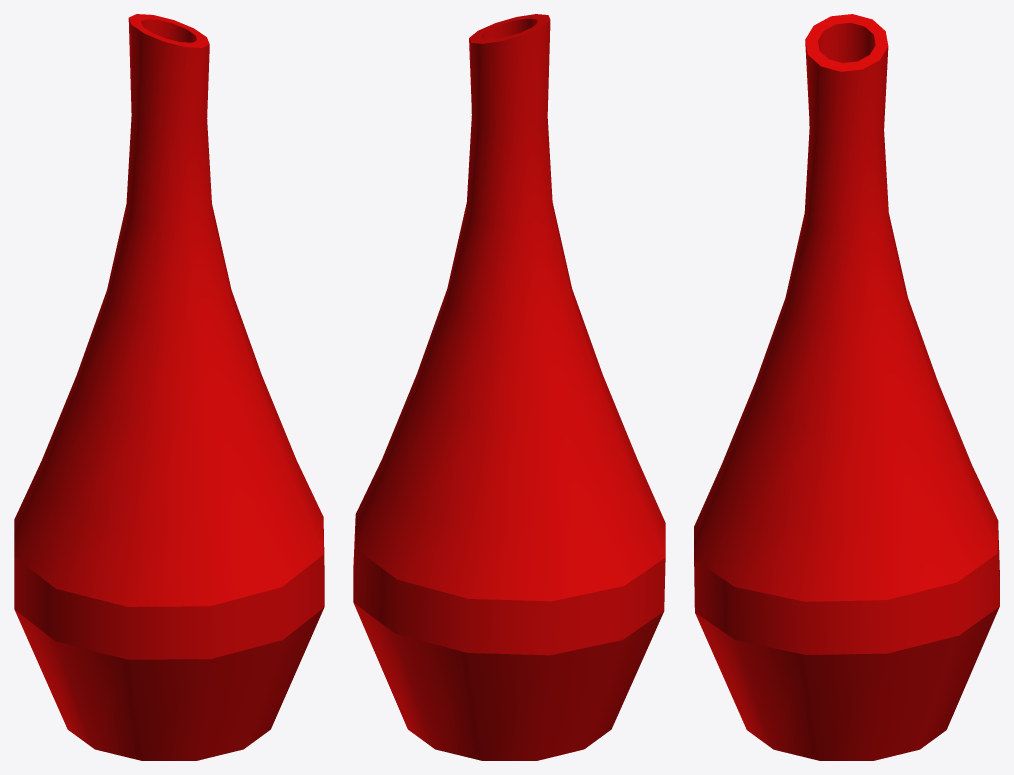
Rendered from Vase_5.fbx.
3 views of the same model, side by side, from view 1: azimuth 30°, elevation 25°; view 2: azimuth 150°, elevation 25°; view 3: azimuth 270°, elevation 25° (orthographic).
Parts seen in each view (by area): view 1: Vase_5; view 2: Vase_5; view 3: Vase_5.
Boxes of the visible parts, bbox=[...] form: Vase_5: bbox=[14, 14, 324, 760]; Vase_5: bbox=[353, 14, 665, 760]; Vase_5: bbox=[694, 14, 999, 760].
Size of the model in its own units: 24.7 by 61.3 by 24.7.
